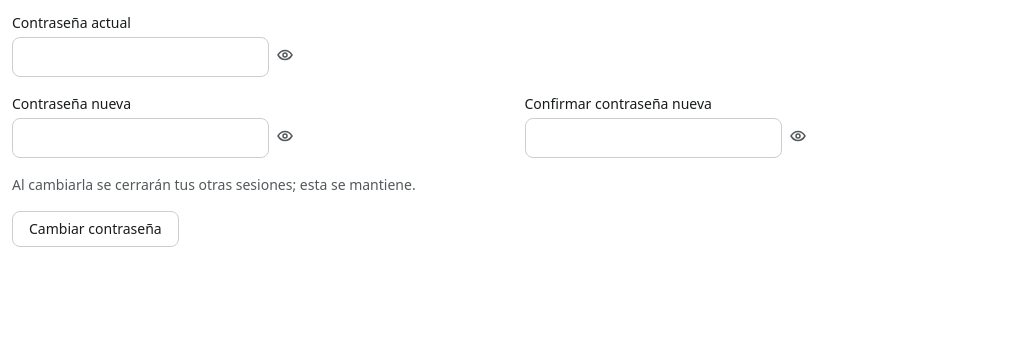
Scenario: FormularioContrasena › muestra el error por campo que devuelve el servidor
In the password field labelled "Contraseña actual": [140, 57] box [12,37,269,77], type "equivocada"
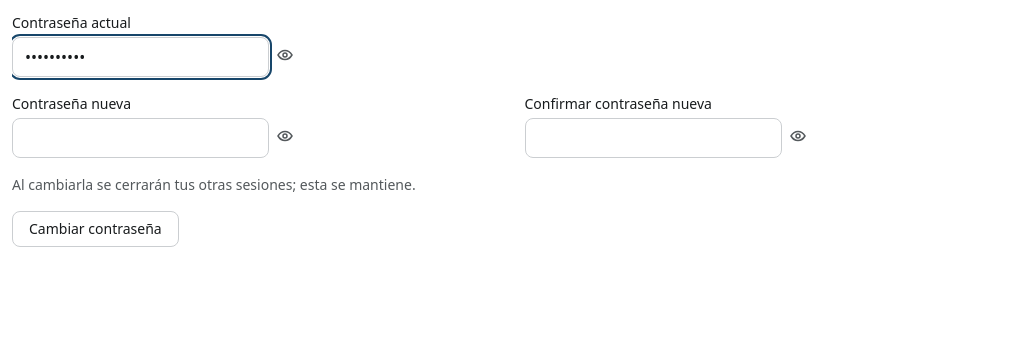
In the password field labelled "Contraseña nueva": [140, 138] box [12,118,269,158], type "otra-contrasena-larga"
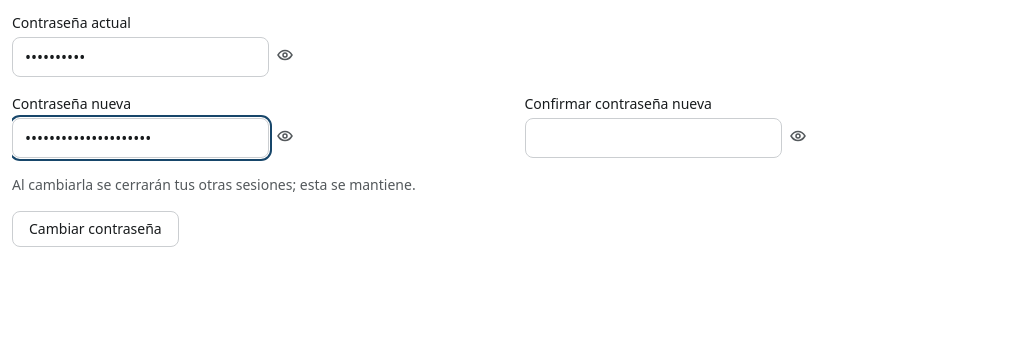
In the password field labelled "Confirmar contraseña nueva": [653, 138] box [524,118,782,158], type "otra-contrasena-larga"
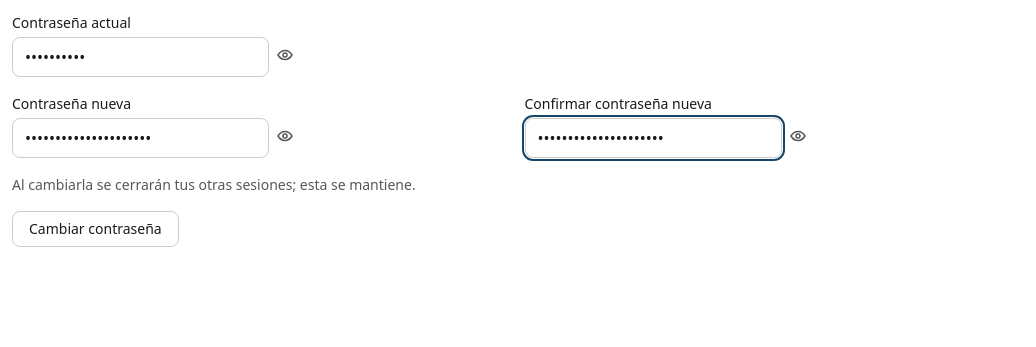
Click the button "Cambiar contraseña": [95, 229] box [12,211,179,246]
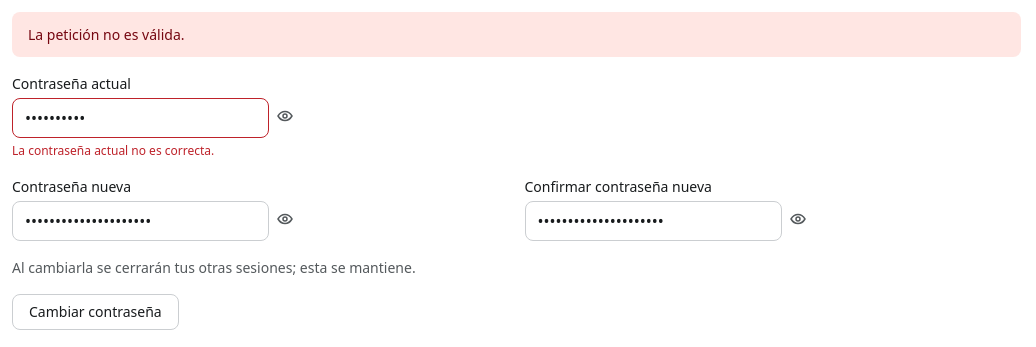
Result: the text "La contraseña actual no es correcta." is shown at [12,142,214,159]
